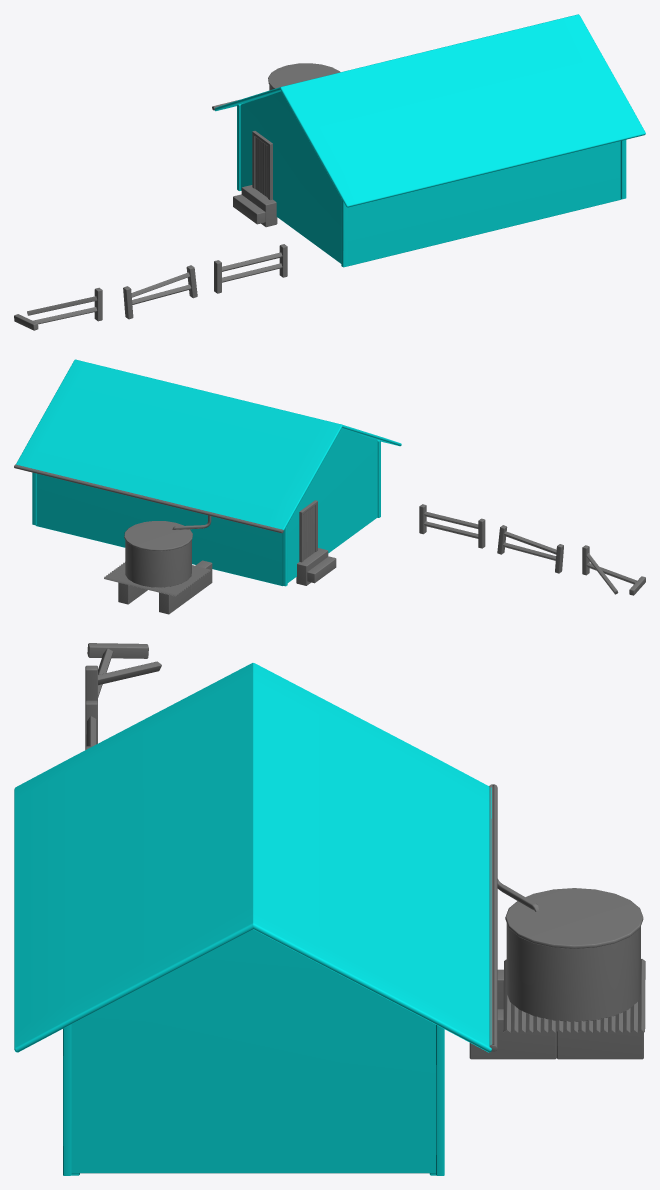
Rendered from exterior_house_assembled.fbx.
3 renders of one model, top to bottom at view 1: azimuth 30°, elevation 25°; view 2: azimuth 150°, elevation 25°; view 3: azimuth 270°, elevation 25°, orthographic. The views are drawn at different scales.
Parts seen in each view (by area): view 1: house_roof1, house_wall_04, house_wall_02, watertank_lid_L, step_02_L, house_door_L, house_roof, house_doorway_L, step_01_L; view 2: house_roof, house_wall_01, house_wall_02, watertank_L, watertank_lid_L, gutter_L, metal_sheet_panel_L, house_door_L, step_02_L, house_roof1, step_02_L2, house_doorway_L (+3 smaller); view 3: house_wall_03, house_roof1, house_roof, watertank_L, watertank_lid_L, metal_sheet_panel_L, step_02_L5, gutter_L, step_02_L4, house_corner3, house_corner4, fence_post4.
Boxes of the visible parts, x1,y1,x2,y2 form: house_roof1: (280, 14, 645, 207); house_wall_04: (347, 141, 621, 266); house_wall_02: (240, 91, 341, 263); watertank_lid_L: (268, 63, 340, 88); step_02_L: (241, 185, 277, 227); house_door_L: (255, 137, 267, 197); house_roof: (214, 14, 578, 111); house_doorway_L: (252, 131, 272, 200); step_01_L: (233, 194, 265, 224); house_roof: (16, 359, 342, 530); house_wall_01: (36, 473, 282, 586); house_wall_02: (287, 428, 377, 582); watertank_L: (125, 540, 191, 587); watertank_lid_L: (124, 521, 192, 551); gutter_L: (14, 464, 283, 533); metal_sheet_panel_L: (104, 562, 211, 596); house_door_L: (303, 506, 315, 560); step_02_L: (296, 548, 328, 585); house_roof1: (75, 359, 401, 446); step_02_L2: (159, 585, 190, 614); house_doorway_L: (299, 500, 317, 562); house_wall_03: (71, 929, 435, 1173); house_roof1: (14, 663, 253, 1052); house_roof: (253, 663, 491, 1052); watertank_L: (506, 923, 640, 1021); watertank_lid_L: (505, 888, 643, 948); metal_sheet_panel_L: (503, 959, 645, 1032); step_02_L5: (556, 1030, 643, 1059); gutter_L: (489, 784, 497, 1051); step_02_L4: (469, 1009, 556, 1059); house_corner3: (63, 1024, 71, 1175); house_corner4: (436, 1025, 444, 1175); fence_post4: (87, 643, 148, 658).
Size of the model in its own units: 3088 by 759 by 1583.
